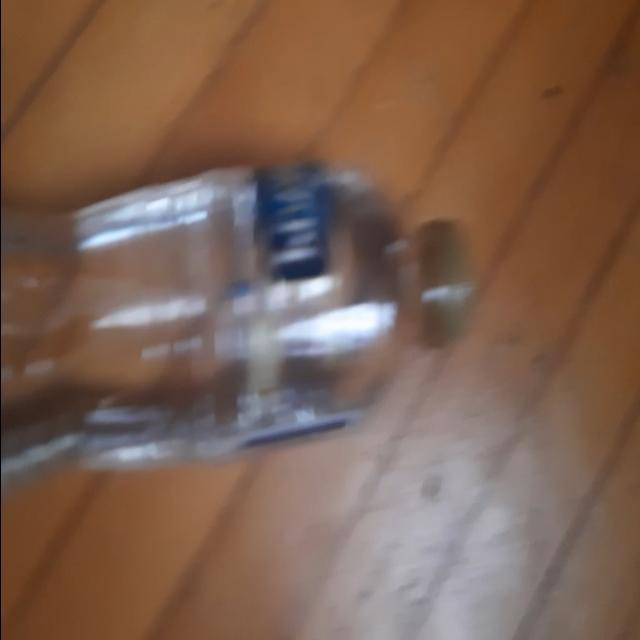Plastic: (0, 159, 474, 487)
